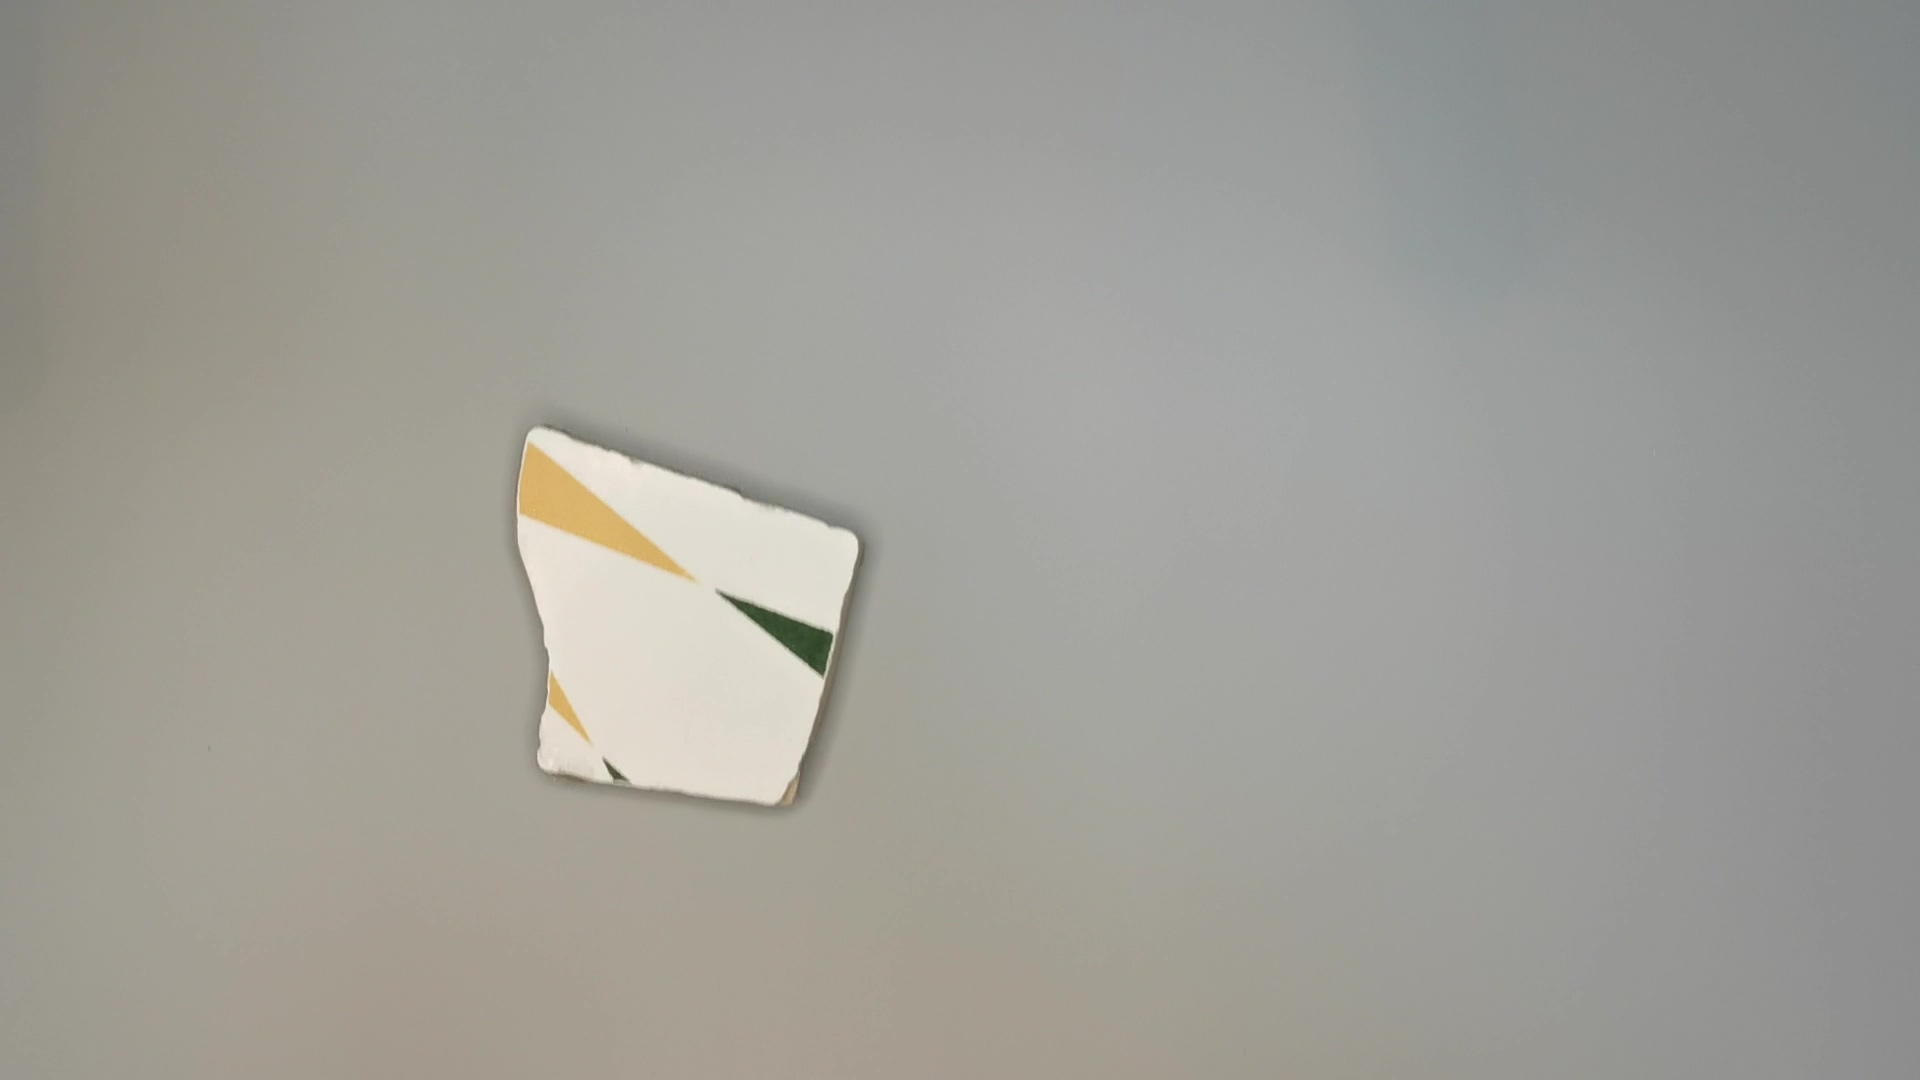ceramic: (512, 425, 876, 816)
